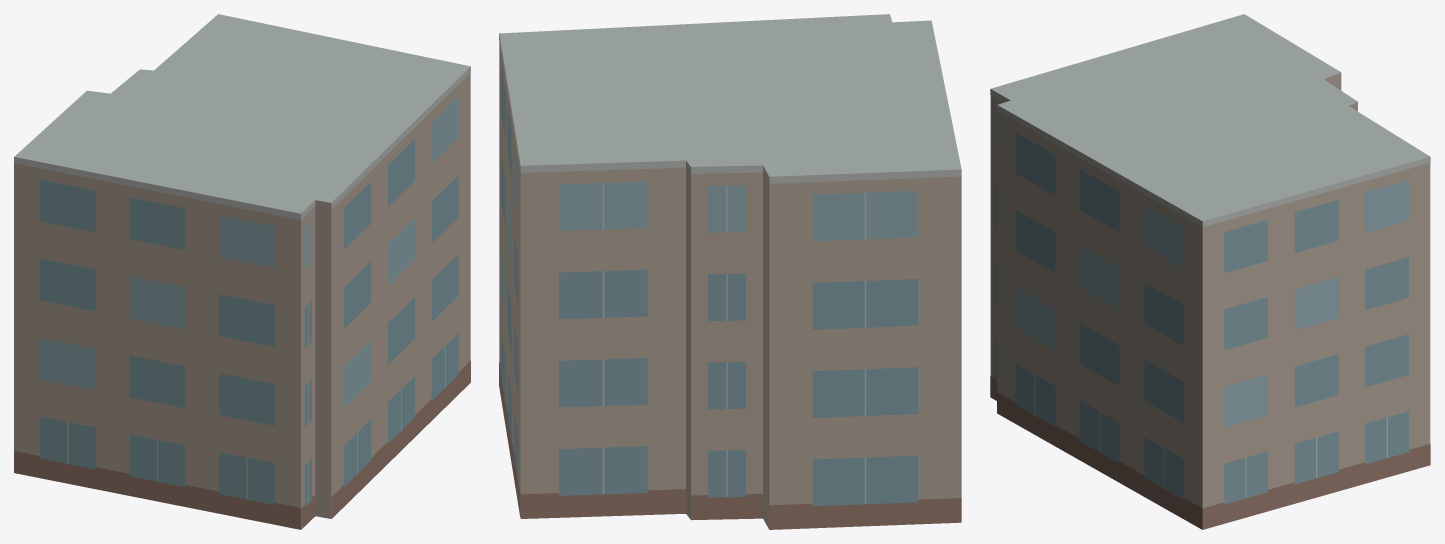
File: survey-upis-32750758.glb
3 views of the same model, side by side, from view 1: azimuth 30°, elevation 25°; view 2: azimuth 150°, elevation 25°; view 3: azimuth 270°, elevation 25° (orthographic). The views are drawn at different scales.
Parts seen in each view (by area): view 1: survey-upis-32750758.tmp; view 2: survey-upis-32750758.tmp; view 3: survey-upis-32750758.tmp.
Part boxes in pixels (x1,y1,x2,y2): survey-upis-32750758.tmp: (14,14,470,529); survey-upis-32750758.tmp: (499,14,961,529); survey-upis-32750758.tmp: (990,14,1430,529).
Bounding box in the file's own units: 17.59 × 12.2 × 15.78.
